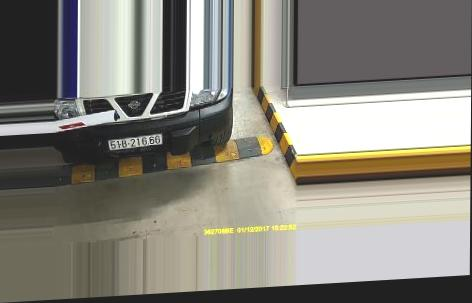License_Plate: (106, 131, 164, 153)
